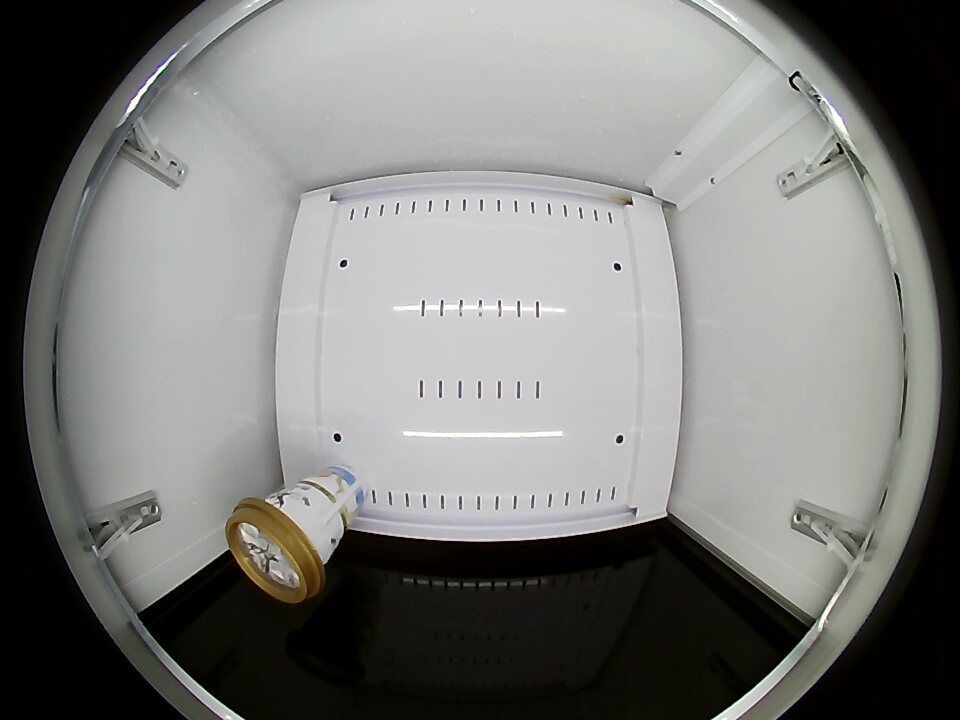lujiaoxiang: (225, 494, 332, 603)
